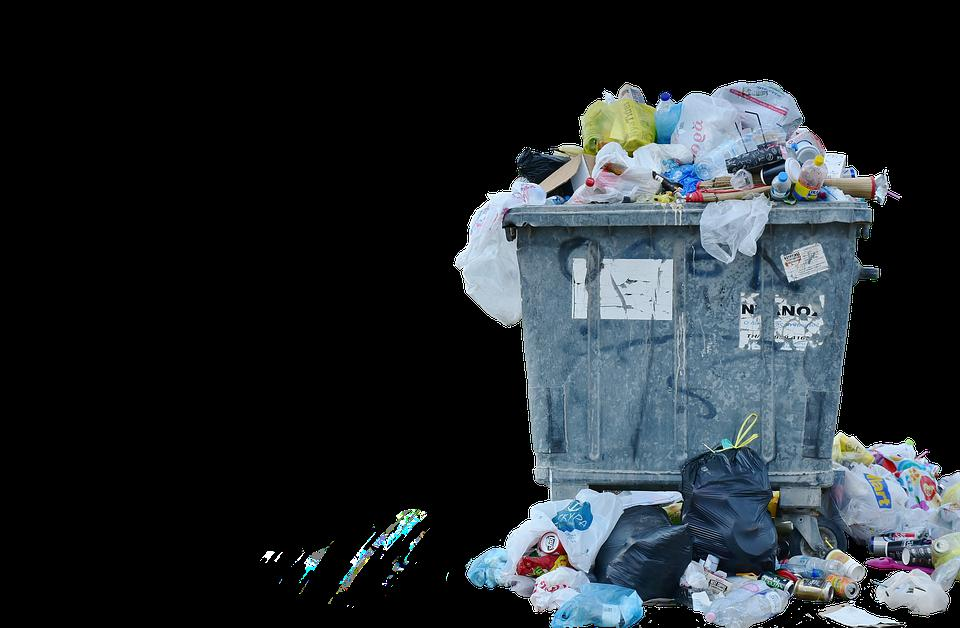Container: (503, 205, 872, 554), (505, 205, 875, 482)
Garbage: (839, 423, 957, 618), (668, 416, 780, 584), (715, 134, 888, 204), (438, 195, 517, 326), (523, 489, 632, 572), (843, 445, 919, 549), (680, 90, 751, 186), (718, 70, 802, 151), (582, 90, 663, 156), (694, 562, 775, 626), (620, 526, 678, 609), (697, 196, 778, 255), (591, 146, 678, 197), (872, 522, 929, 596), (566, 574, 648, 625), (469, 556, 547, 601), (878, 573, 940, 625), (793, 568, 862, 605), (522, 147, 569, 199), (495, 157, 542, 207), (525, 565, 575, 610), (653, 76, 675, 143)
